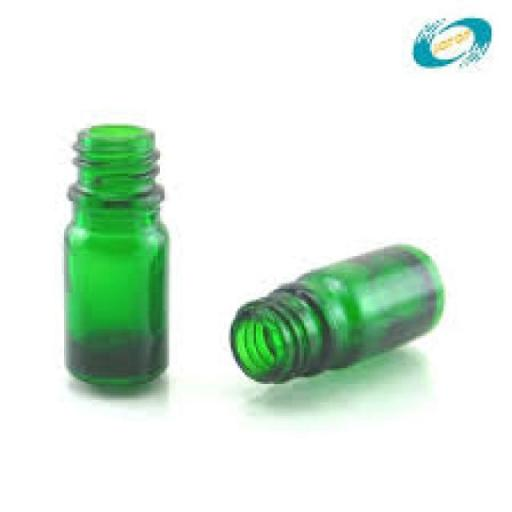glass: (224, 240, 445, 386), (64, 123, 170, 387)
